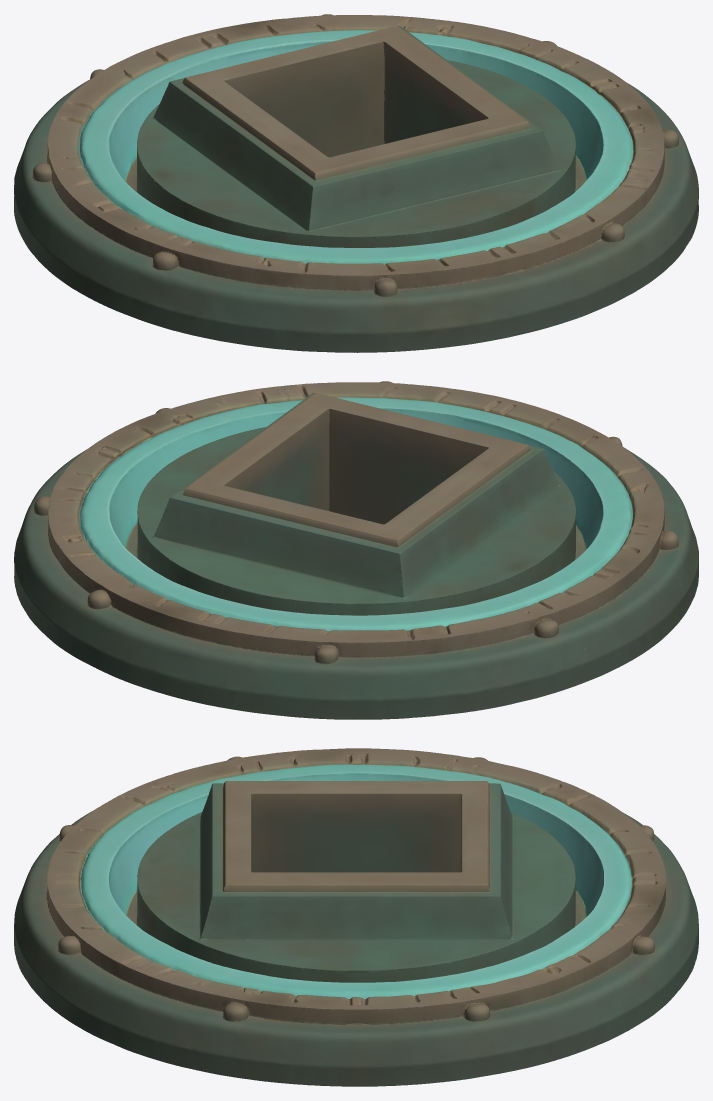
File: Socket-Rodin.glb
3 renders of one model, top to bottom at view 1: azimuth 30°, elevation 25°; view 2: azimuth 150°, elevation 25°; view 3: azimuth 270°, elevation 25°, orthographic.
Parts seen in each view (by area): view 1: model; view 2: model; view 3: model.
Part boxes in pixels (box(x1,y1,x2,y2)): model: box(14, 14, 698, 352); model: box(14, 381, 698, 719); model: box(14, 748, 698, 1086).
Bounding box in the file's own units: 1.8 × 0.3185 × 1.8.
Materials: 1 (1 with a texture image).
